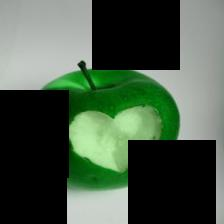green: (30, 66, 180, 190)
